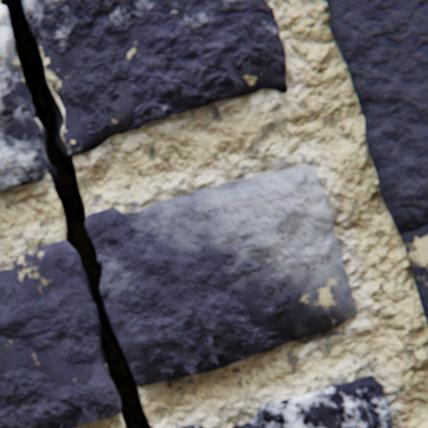brick: (325, 0, 427, 327)
broken_brick: (85, 166, 356, 386), (25, 0, 285, 155), (0, 240, 121, 427), (0, 6, 52, 192), (231, 375, 391, 427), (178, 424, 203, 427)
crack: (0, 0, 152, 427)
